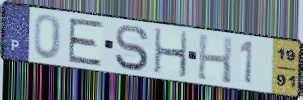0: (32, 13, 64, 62)
1: (238, 40, 255, 87)
E: (67, 16, 106, 67)
H: (195, 31, 234, 86), (152, 26, 189, 80)
S: (113, 24, 151, 73)
